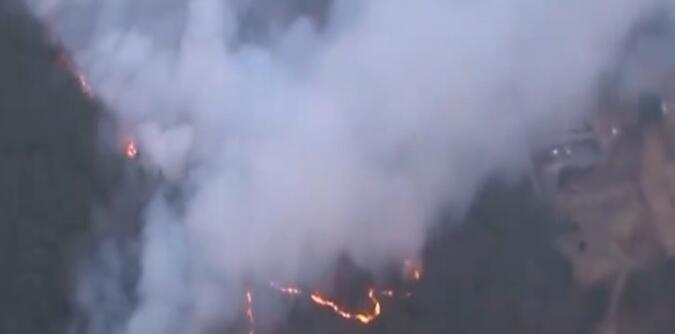yanwu: (65, 0, 662, 317)
